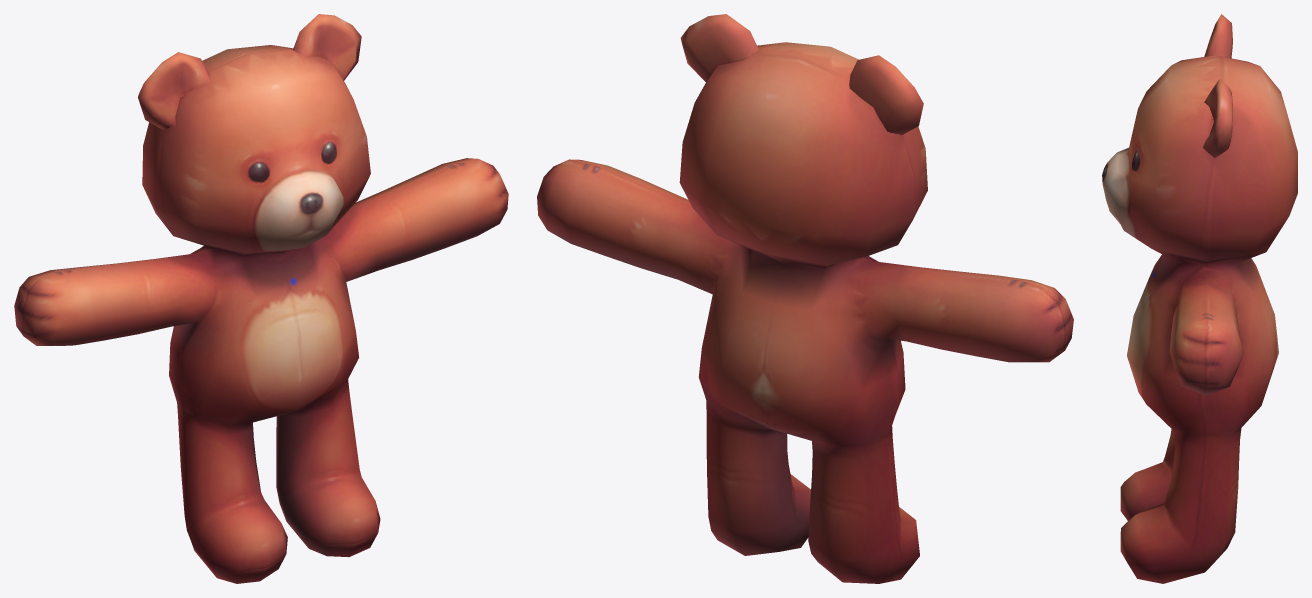
Rendered from teddy.glb.
The picture shows the model from 3 angles, left to right: view 1: azimuth 30°, elevation 25°; view 2: azimuth 150°, elevation 25°; view 3: azimuth 270°, elevation 25°; orthographic projection. The views are drawn at different scales.
Parts seen in each view (by area): view 1: node_id35; view 2: node_id35; view 3: node_id35.
Part boxes in pixels (x1,y1,x2,y2): node_id35: [14, 14, 508, 583]; node_id35: [537, 14, 1073, 583]; node_id35: [1102, 14, 1297, 583].
Bounding box in the file's own units: 0.4436 × 0.4565 × 0.16.
1 material, 1 textured.
